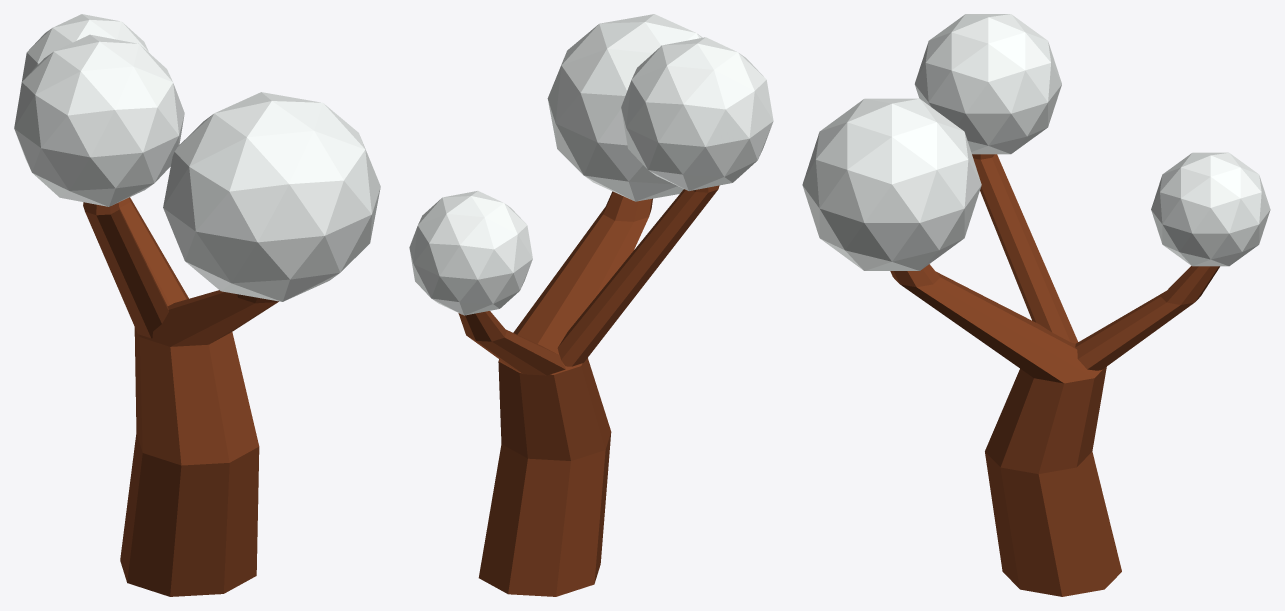
The model's file is Tree1.fbx.
3 views of the same model, side by side, from view 1: azimuth 30°, elevation 25°; view 2: azimuth 150°, elevation 25°; view 3: azimuth 270°, elevation 25° (orthographic). The views are drawn at different scales.
Visible parts, largest first — view 1: Cylinder.001, Cylinder; view 2: Cylinder.001, Cylinder; view 3: Cylinder.001, Cylinder.
Part boxes in pixels (left/top/right/bottom): Cylinder.001: left=14, top=14, right=380, bottom=301; Cylinder: left=83, top=197, right=278, bottom=596; Cylinder.001: left=409, top=14, right=773, bottom=315; Cylinder: left=458, top=185, right=719, bottom=596; Cylinder.001: left=802, top=14, right=1270, bottom=270; Cylinder: left=890, top=154, right=1219, bottom=596.
Size of the model in its own units: 457 by 922 by 783.
